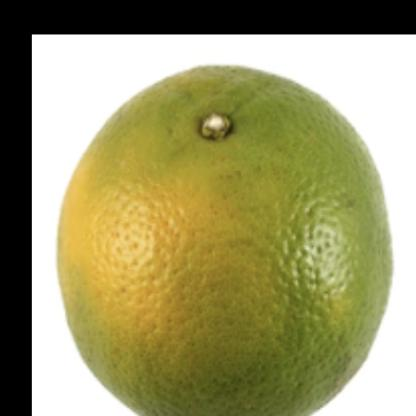fresh: (56, 65, 390, 416)
